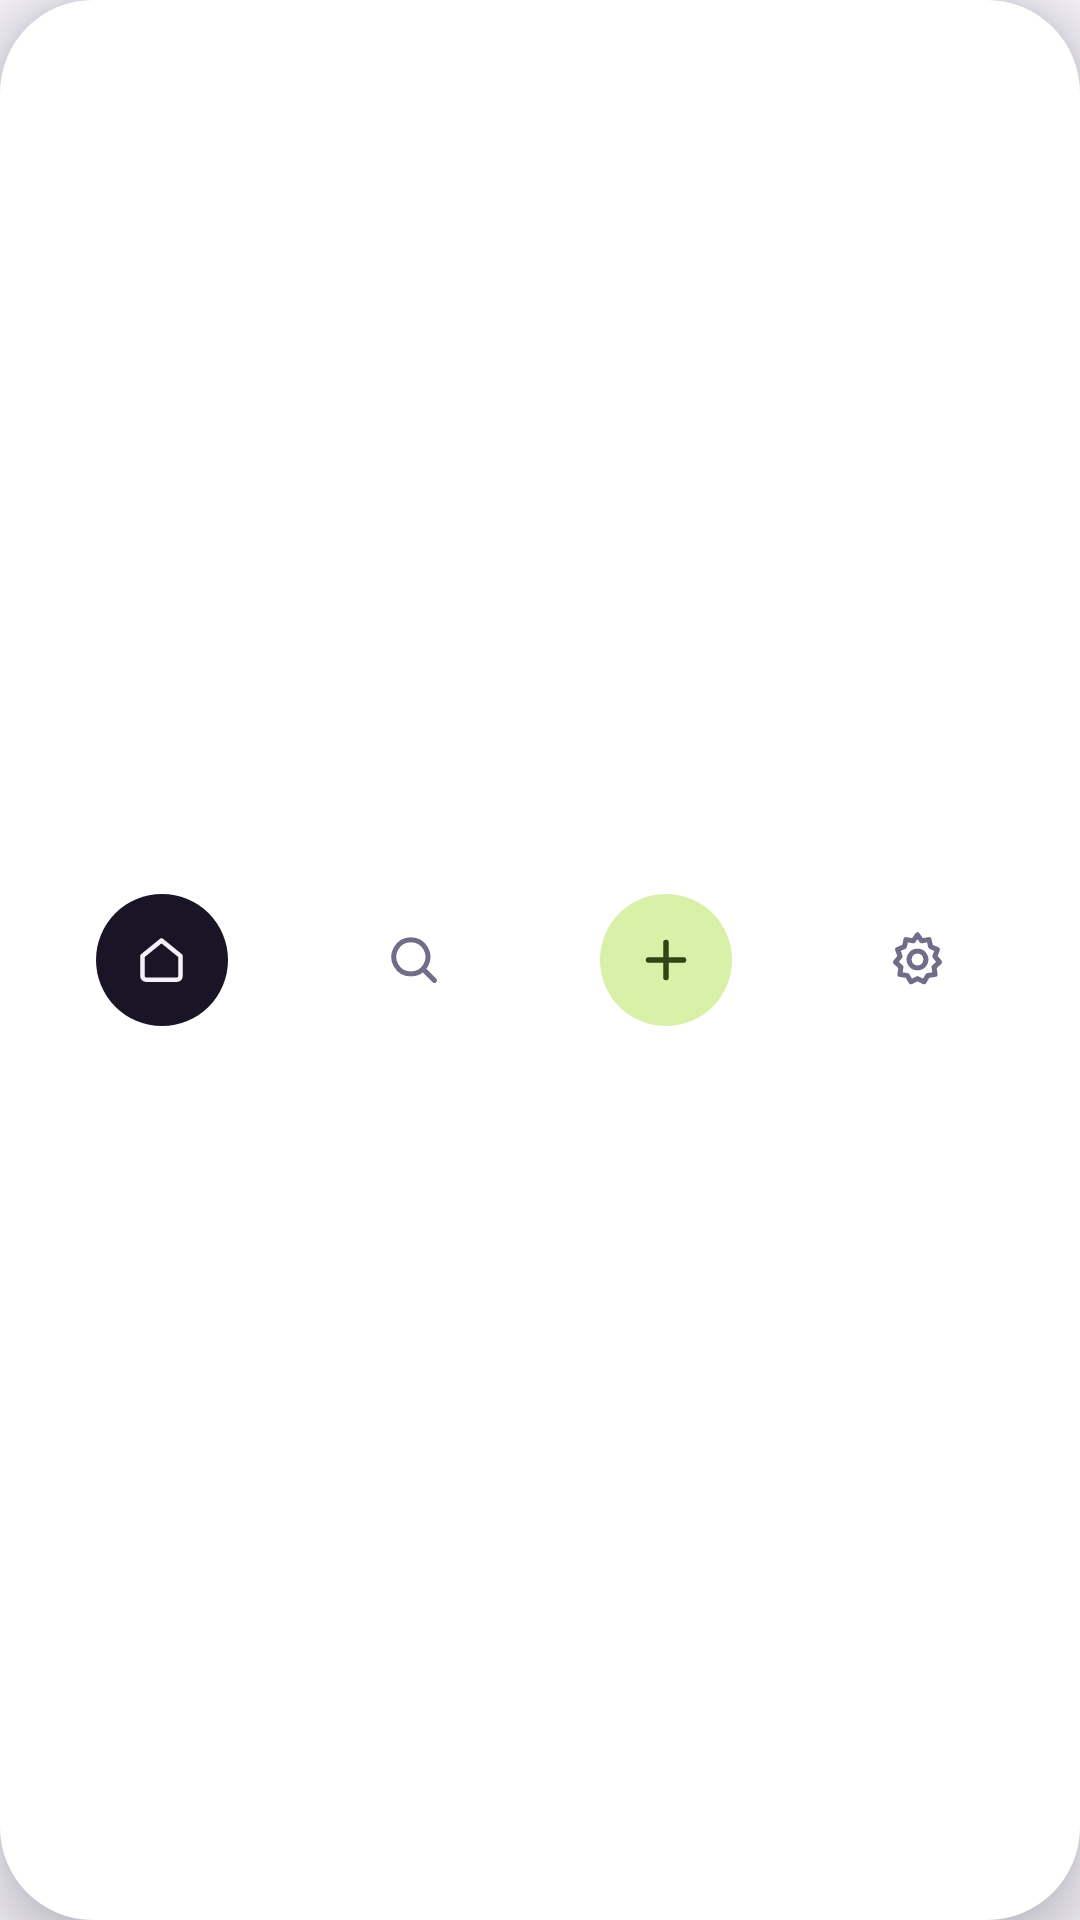

Icon click points for this 1080*1920 phone screenshot, format [x,y]:
Add a task: [666,960]
Home: [161,960]
Search: [414,960]
Settings: [917,958]
